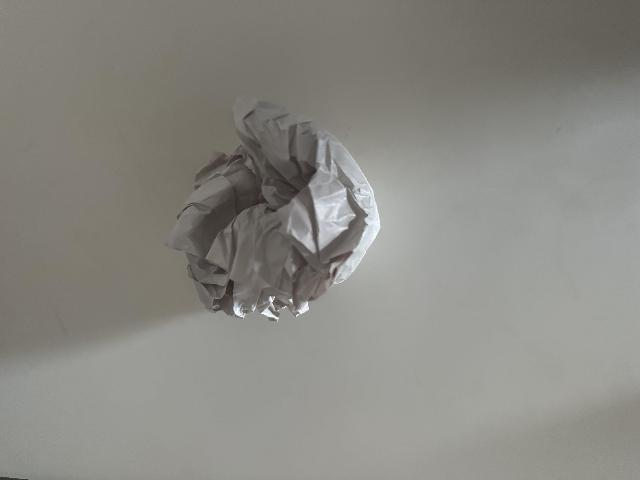Kagit: (165, 78, 410, 340)
